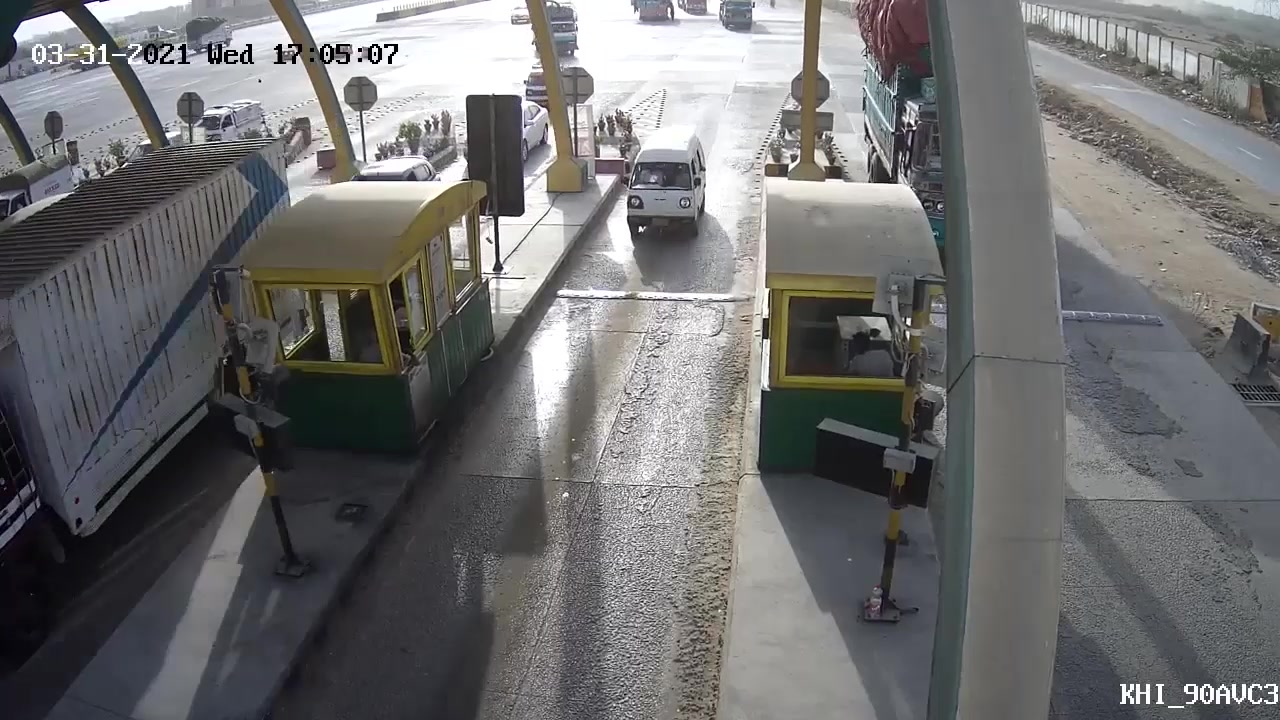F1: (622, 125, 712, 236)
